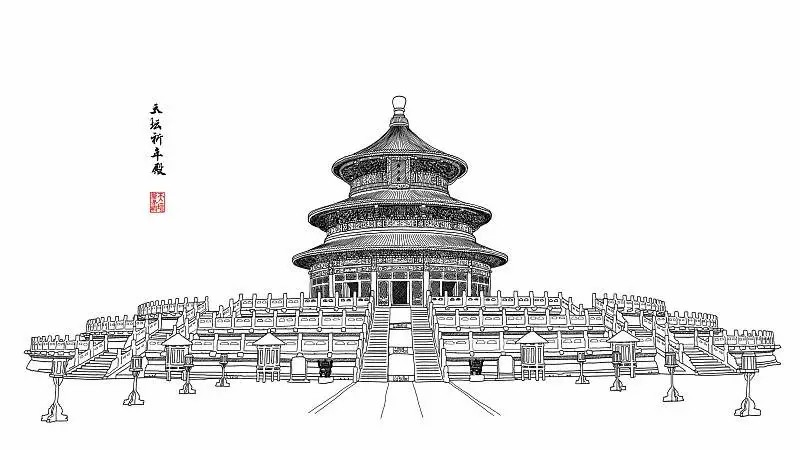Heaven: (289, 94, 508, 304)
